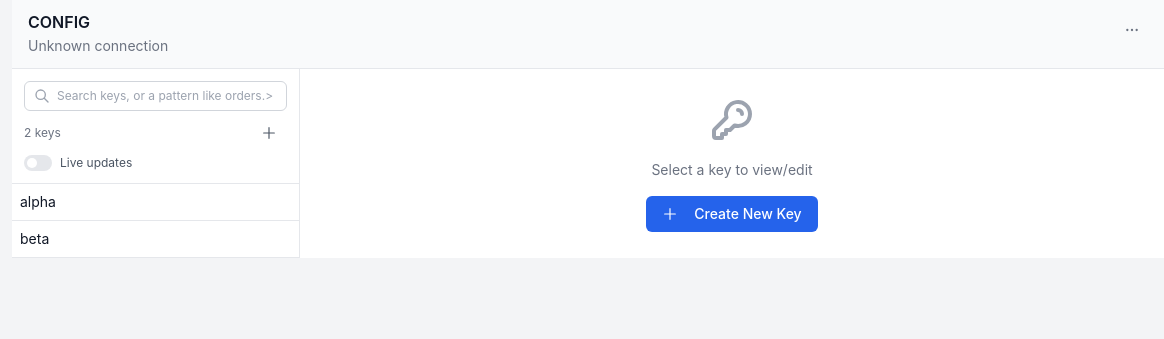
it: KVStorePage › says the bucket stream is offline instead of live
Click the switch named "live updates" at (38, 163), box [24, 155, 52, 171]
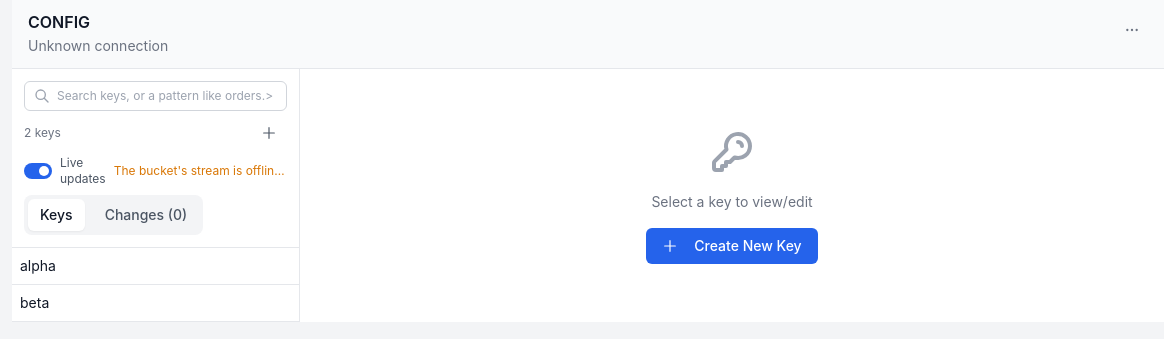
Expected: the text "stream is offline" is shown, [114, 163, 456, 178]
